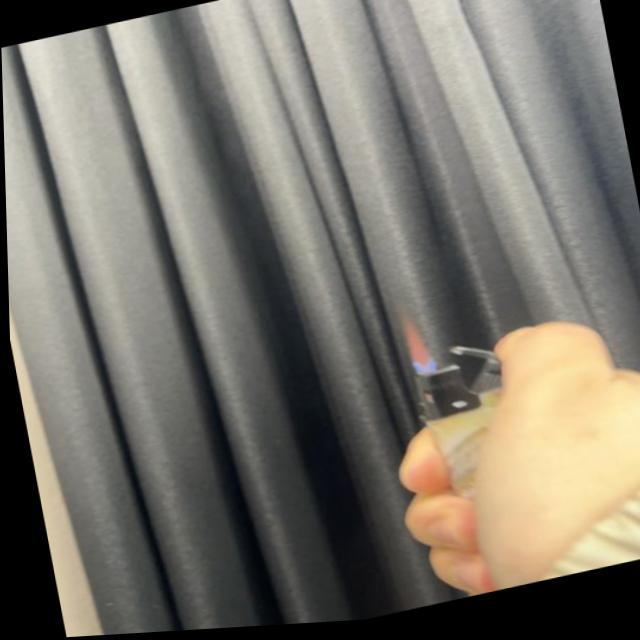Fire: (396, 313, 433, 379)
